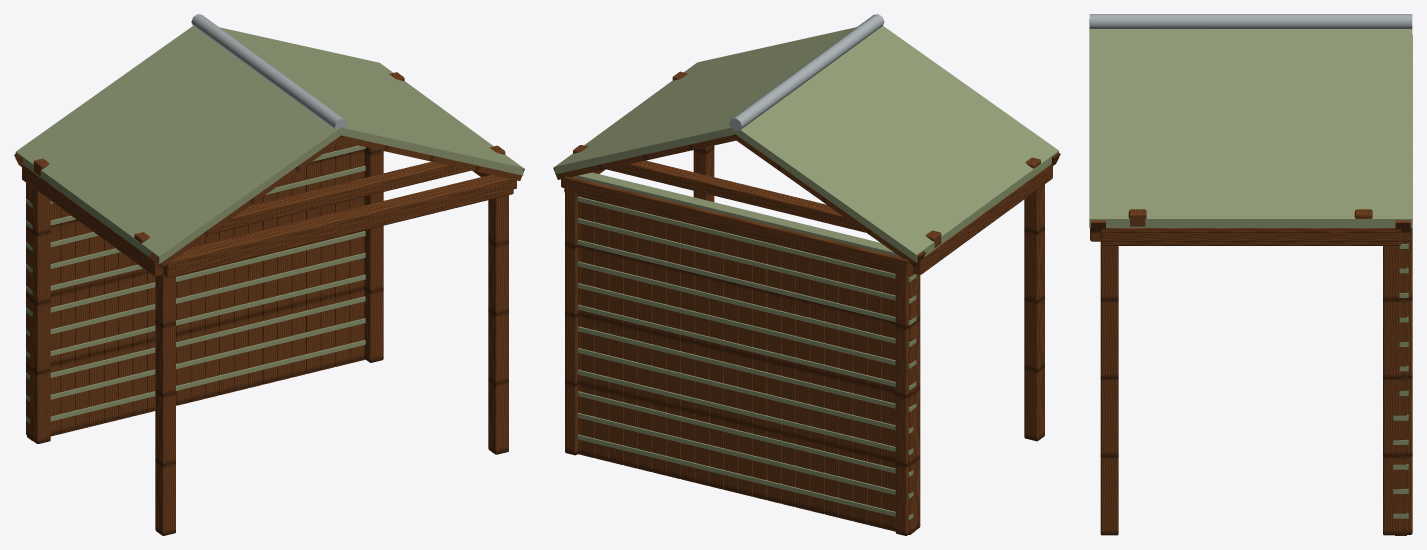
File: prehistoric-survivor-settlement-woven-longhouse-bay-284e712e__23200.glb
3 renders of one model, left to right at view 1: azimuth 30°, elevation 25°; view 2: azimuth 150°, elevation 25°; view 3: azimuth 270°, elevation 25°, orthographic. The views are drawn at different scales.
Parts seen in each view (by area): view 1: woven-longhouse-bay; view 2: woven-longhouse-bay; view 3: woven-longhouse-bay.
Part boxes in pixels (x1=…): woven-longhouse-bay: x1=14, y1=14, x2=524, y2=535; woven-longhouse-bay: x1=553, y1=14, x2=1060, y2=535; woven-longhouse-bay: x1=1089, y1=14, x2=1412, y2=535.
Size of the model in its own units: 3.19 by 3.14 by 2.15.
3 materials, 1 textured.
